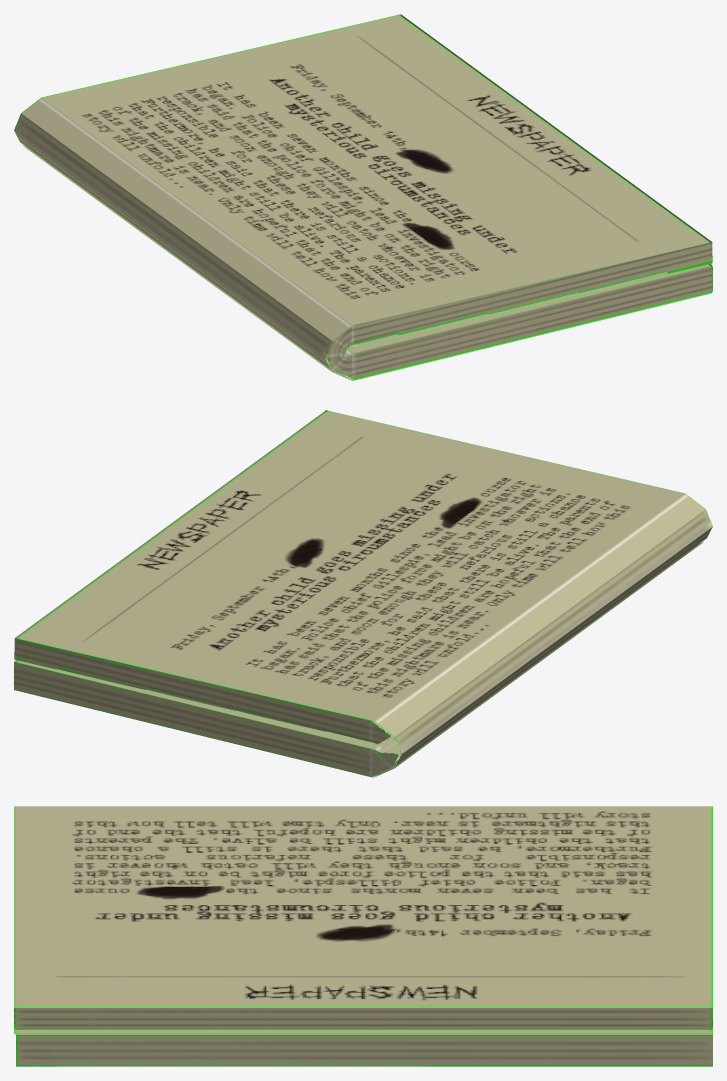
Rendered from journal.fbx.
The picture shows the model from 3 angles, top to bottom: view 1: azimuth 30°, elevation 25°; view 2: azimuth 150°, elevation 25°; view 3: azimuth 270°, elevation 25°; orthographic projection. The views are drawn at different scales.
Parts seen in each view (by area): view 1: Box001; view 2: Box001; view 3: Box001.
Part boxes in pixels (x1=…): Box001: x1=14, y1=14, x2=712, y2=380; Box001: x1=14, y1=410, x2=712, y2=777; Box001: x1=14, y1=806, x2=712, y2=1066.
Size of the model in its own units: 54.74 by 7.62 by 76.2.
